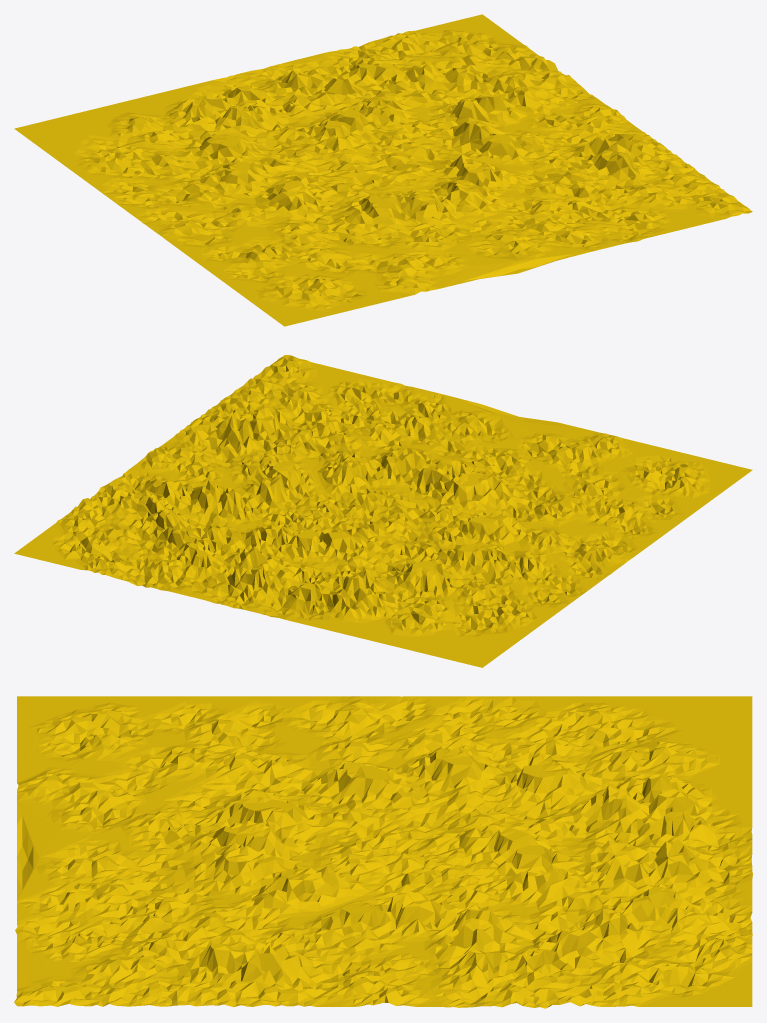
The model's file is Ground.fbx.
The picture shows the model from 3 angles, top to bottom: view 1: azimuth 30°, elevation 25°; view 2: azimuth 150°, elevation 25°; view 3: azimuth 270°, elevation 25°; orthographic projection. The views are drawn at different scales.
Visible parts, largest first — view 1: Plane; view 2: Plane; view 3: Plane.
Part boxes in pixels (x1,y1,x2,y2): Plane: (14, 14, 752, 326); Plane: (14, 355, 752, 667); Plane: (14, 696, 752, 1008).
Bounding box in the file's own units: 2007 × 103 × 2010.
